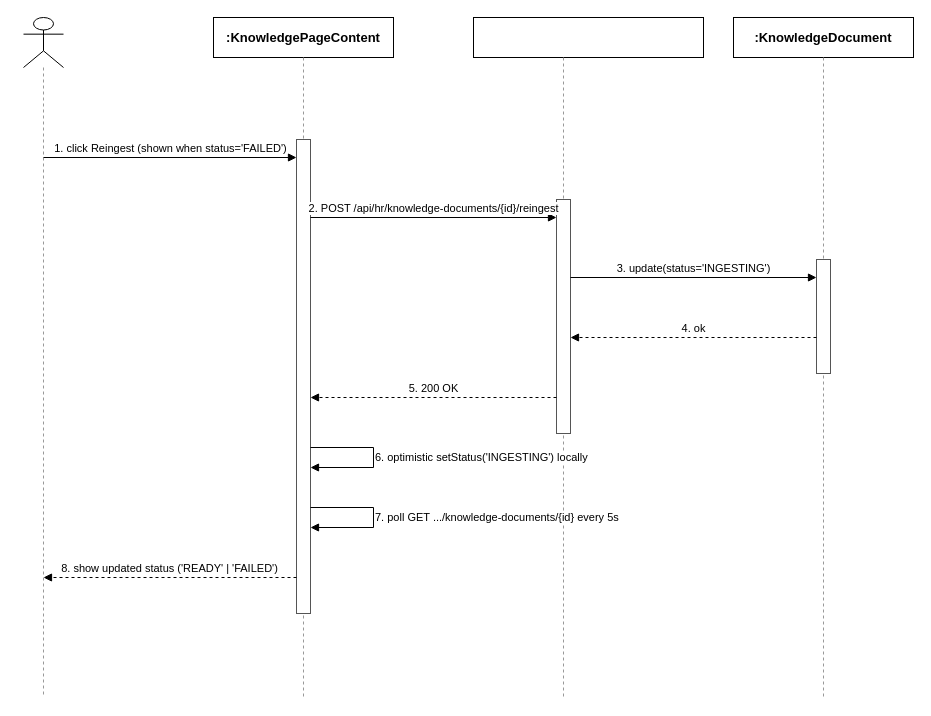
The diagram is 931 pixels wide and 716 high, and some of its shapes have lost their labels. Each missing label, with the box of its shape:
:KnowledgeDocumentsController: (472, 16, 704, 58)
HR Manager: (22, 16, 64, 68)
